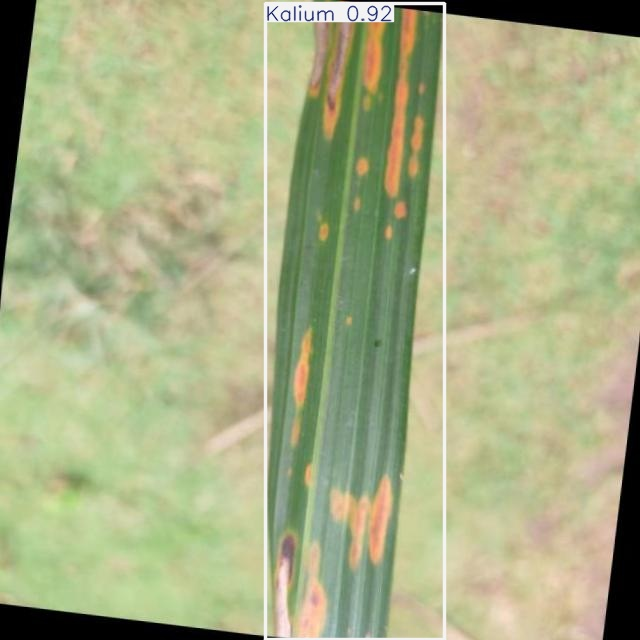Kalium: (266, 4, 444, 640)
